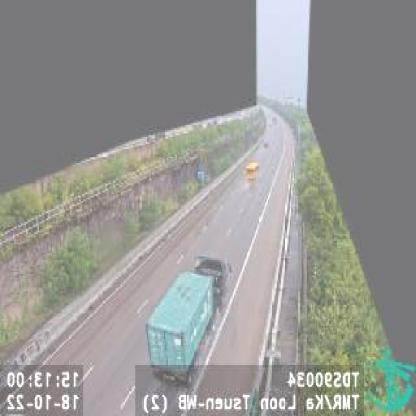Bus: (244, 161, 260, 183)
Truck: (145, 253, 230, 386)
